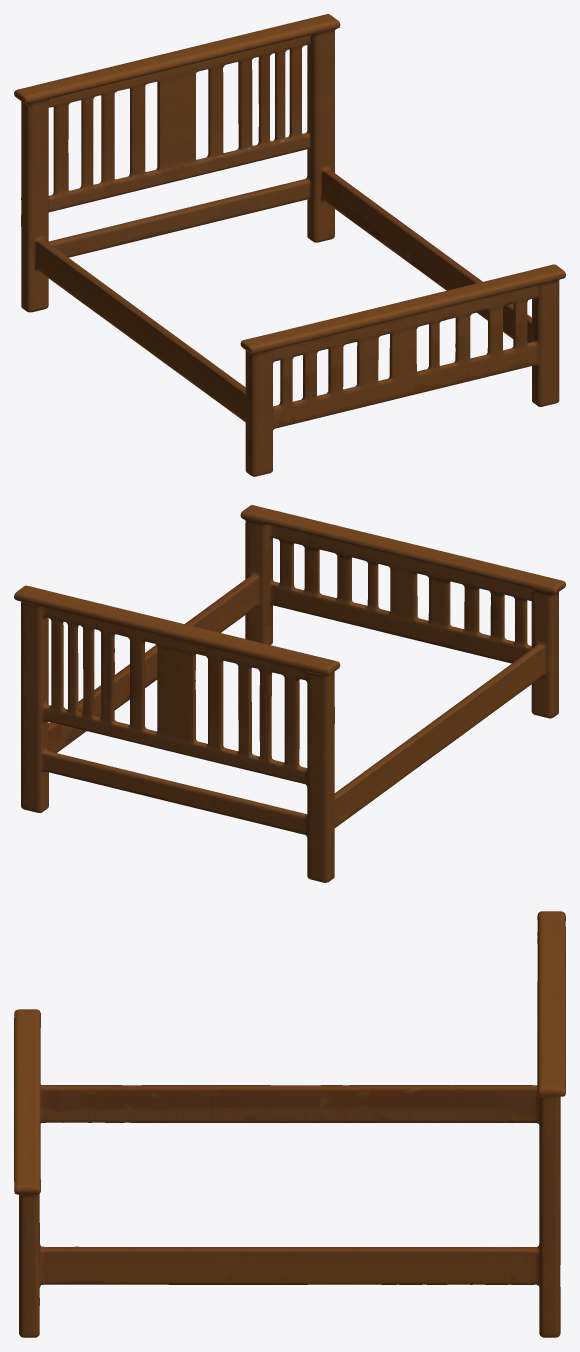
The model's file is bed__bed#4.glb.
3 views of the same model, one above another, from view 1: azimuth 30°, elevation 25°; view 2: azimuth 150°, elevation 25°; view 3: azimuth 270°, elevation 25° (orthographic). The views are drawn at different scales.
Visible parts, largest first — view 1: tmpprq32ff7.ply; view 2: tmpprq32ff7.ply; view 3: tmpprq32ff7.ply.
Part boxes in pixels (x1,y1,x2,y2): tmpprq32ff7.ply: (14,14,565,476); tmpprq32ff7.ply: (14,505,565,882); tmpprq32ff7.ply: (14,911,565,1337).
Bounding box in the file's own units: 1.52 × 1 × 1.99.
1 material, 1 textured.
